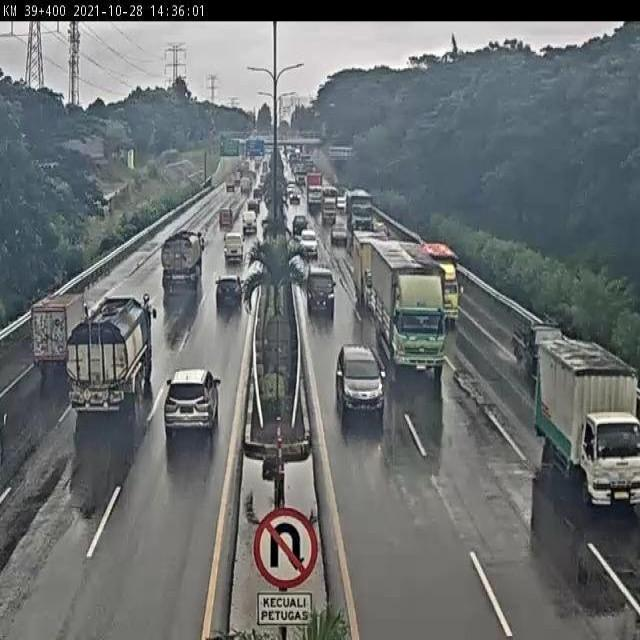big truck: (82, 289, 155, 423), (372, 234, 442, 358), (165, 209, 195, 296), (346, 196, 370, 232), (222, 232, 243, 271)
car: (156, 356, 225, 452), (512, 308, 545, 367), (346, 349, 374, 414), (207, 280, 245, 325), (309, 260, 327, 304), (294, 222, 318, 246), (321, 192, 335, 225), (331, 223, 347, 245), (219, 212, 230, 231), (294, 213, 305, 232), (289, 190, 302, 206), (249, 197, 258, 219), (243, 219, 252, 237), (126, 496, 128, 508)
small truck: (547, 352, 640, 489), (34, 281, 72, 376), (414, 225, 450, 311)
